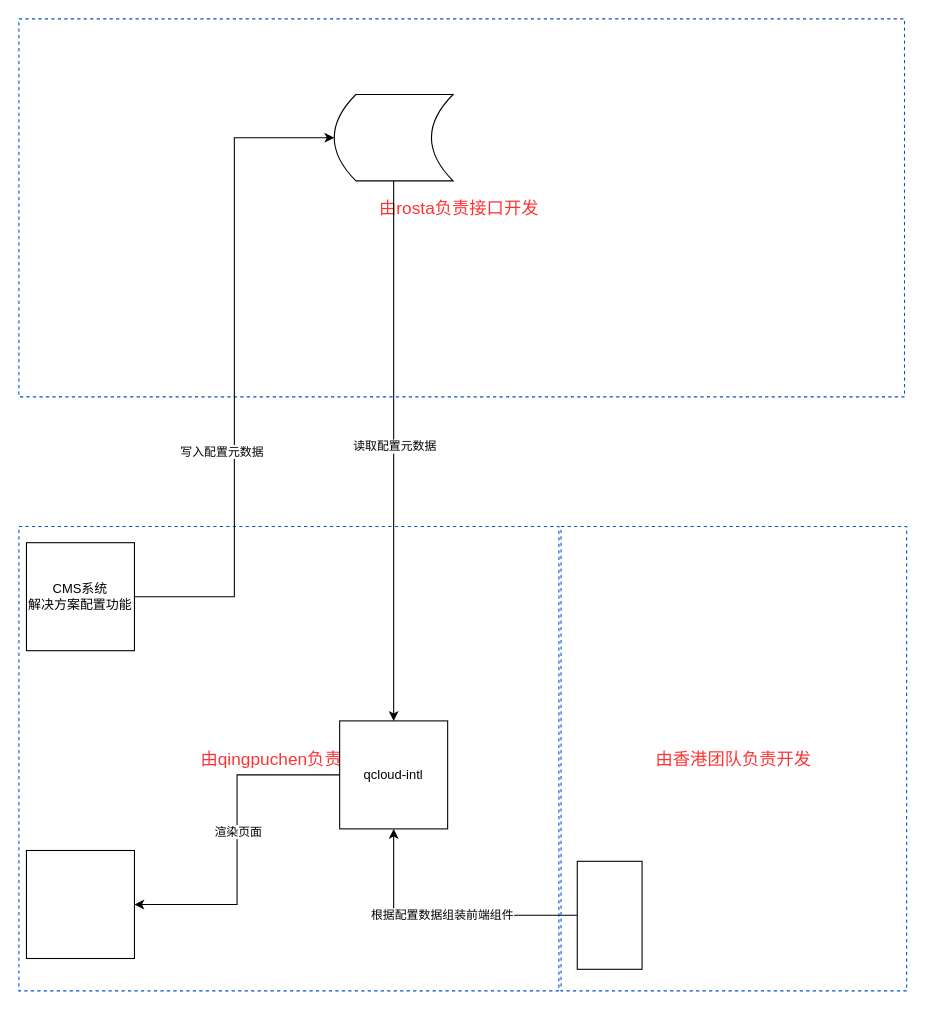
Some shapes in this 926 by 1010 pixel diagram are drawn without their labels. Here are the shapes that lost their labels. From the top down, the box of each, then its label:
(333, 93, 453, 181): sql
(25, 849, 134, 959): 国际站web
(576, 860, 642, 969): 解决方案组件
